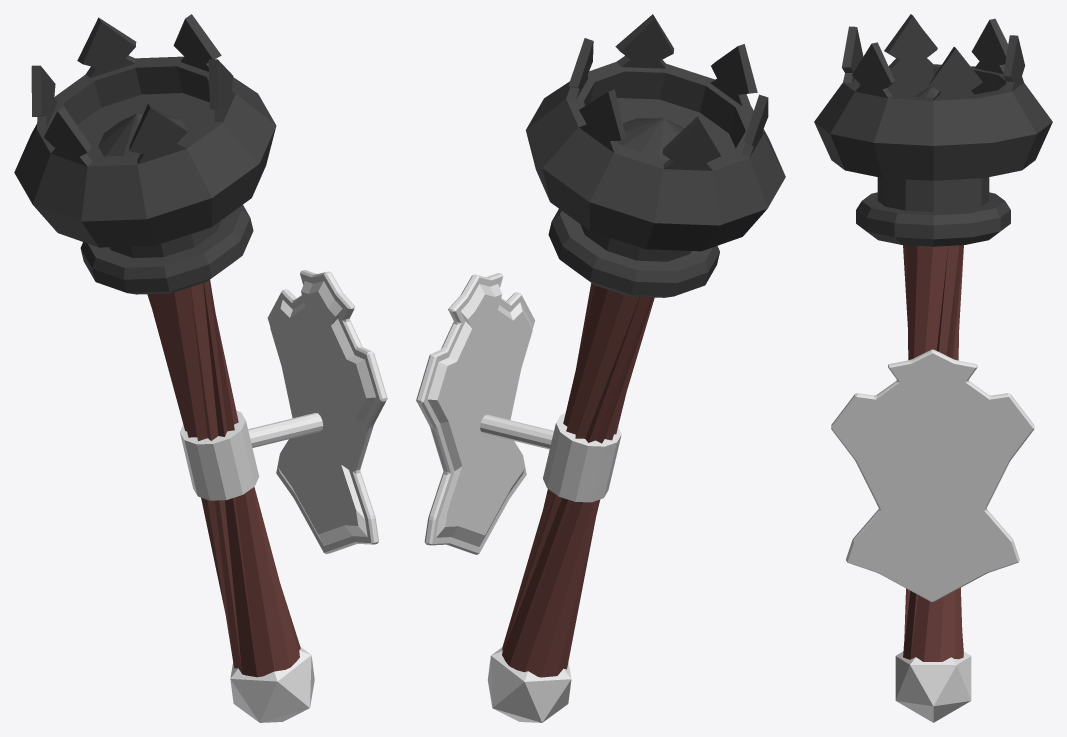
Rendered from Torch.fbx.
3 views of the same model, side by side, from view 1: azimuth 30°, elevation 25°; view 2: azimuth 150°, elevation 25°; view 3: azimuth 270°, elevation 25° (orthographic). The views are drawn at different scales.
Visible parts, largest first — view 1: Torch; view 2: Torch; view 3: Torch.
Boxes of the visible parts, box(x1,y1,x2,y2) form: Torch: box(14, 14, 387, 722); Torch: box(416, 14, 785, 722); Torch: box(814, 14, 1052, 722).
Bounding box in the file's own units: 49.62 × 114 × 38.53.
